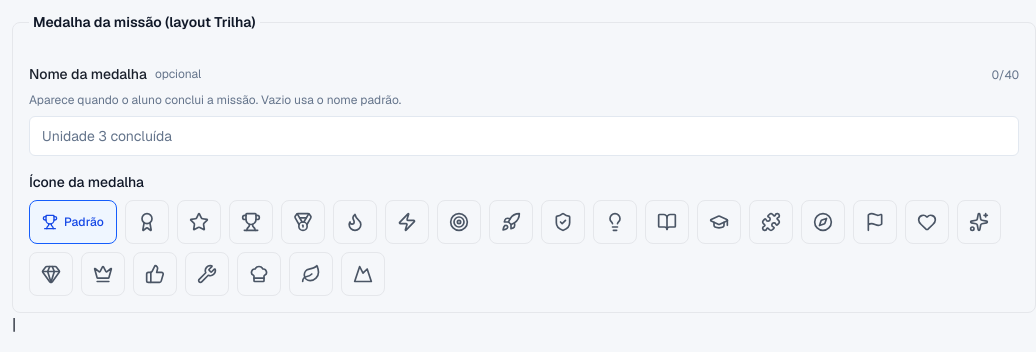
Scenario: TrailBadgeFields › edits the name and picks an icon by click, with the choice announced
The image size is (1036, 352).
Step 1. Type "Mãos limpas" into the field labelled "Nome da medalha opcional" → (524, 136), box [29, 116, 1019, 156]
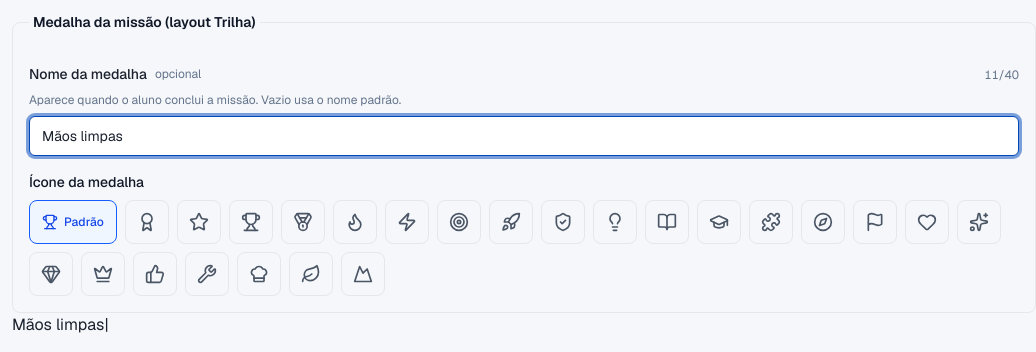
Step 2. Click the button named "Brilho" → (979, 222), box [957, 200, 1001, 244]
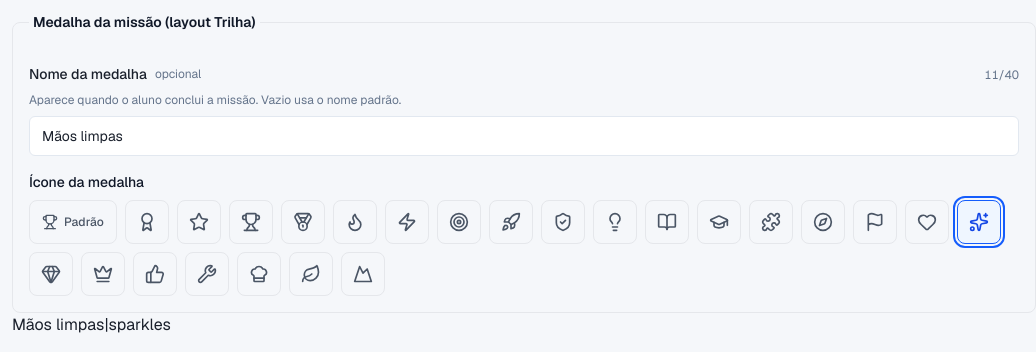
Expected: the text with test id "value" reads "Mãos limpas|sparkles", [12, 314, 171, 335]
